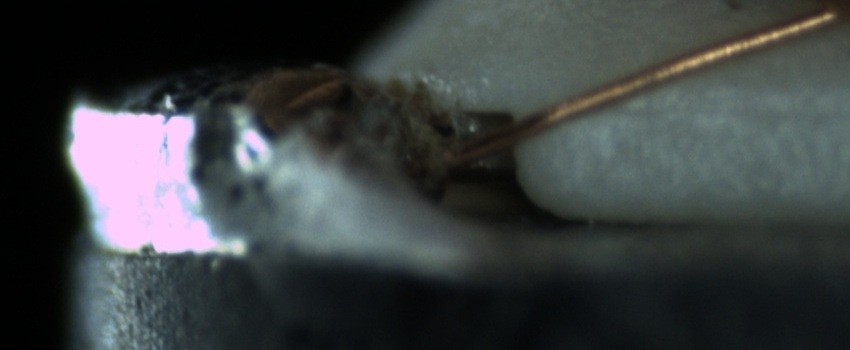CL: (777, 1, 845, 33)
DL: (608, 74, 847, 146)
